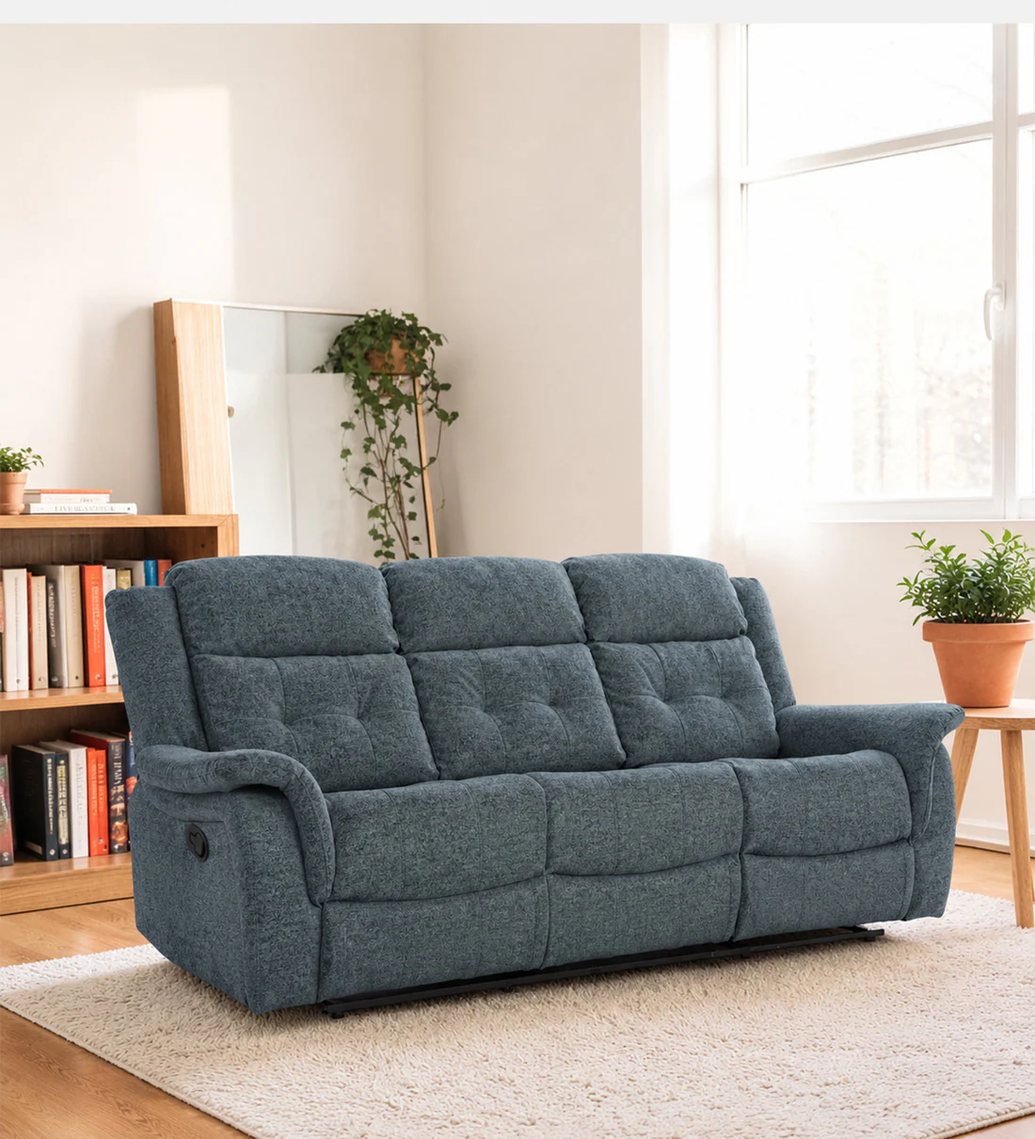3seatersofa: (109, 553, 962, 1015)
backrest: (170, 554, 775, 792)
leftarmrest: (732, 577, 962, 917)
leg: (321, 926, 884, 1019)
rightarmrest: (108, 586, 335, 1011)
seat: (323, 750, 913, 996)
